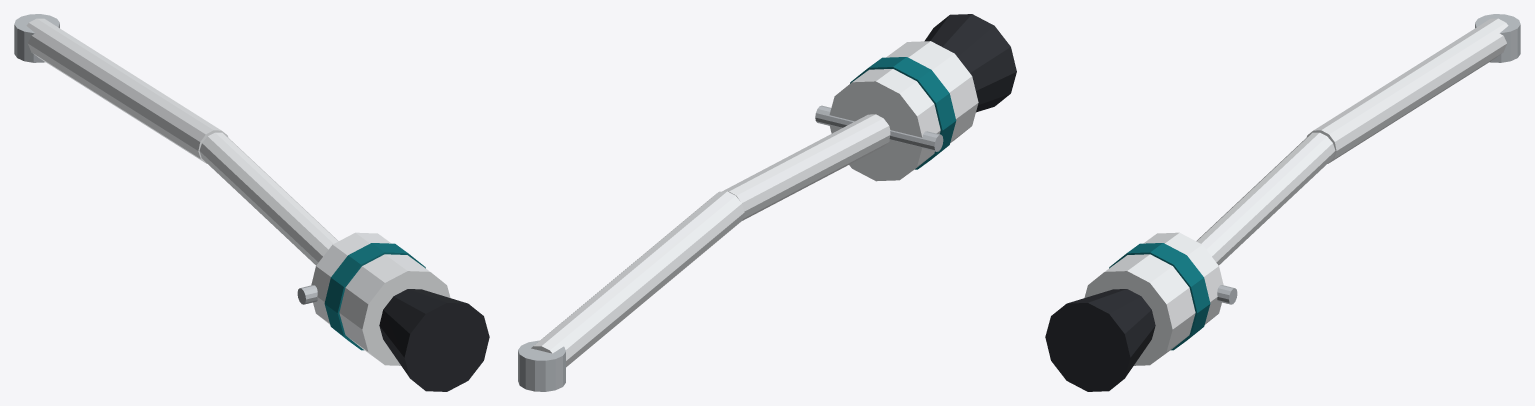
File: brazo-rayos.obj
3 renders of one model, left to right at view 1: azimuth 30°, elevation 25°; view 2: azimuth 150°, elevation 25°; view 3: azimuth 330°, elevation 25°, orthographic. The views are drawn at different scales.
Parts seen in each view (by area): view 1: pieza_6, pieza_9, pieza_7, pieza_8, pieza_4; view 2: pieza_6, pieza_7, pieza_9, pieza_8, pieza_4, pieza_5; view 3: pieza_6, pieza_9, pieza_7, pieza_8, pieza_4.
Boxes of the visible parts, x1,y1,x2,y2 form: pieza_6: (26, 18, 338, 265); pieza_9: (379, 289, 489, 391); pieza_7: (311, 232, 450, 365); pieza_8: (324, 243, 425, 350); pieza_4: (14, 14, 59, 62); pieza_6: (531, 114, 890, 367); pieza_7: (829, 41, 978, 181); pieza_9: (924, 14, 1016, 112); pieza_8: (850, 57, 956, 169); pieza_4: (518, 340, 565, 391); pieza_5: (815, 105, 943, 151); pieza_6: (1196, 18, 1508, 265); pieza_9: (1045, 289, 1155, 391); pieza_7: (1084, 232, 1223, 365); pieza_8: (1109, 243, 1210, 350); pieza_4: (1475, 14, 1520, 62).
Bounding box in the file's own units: 0.2 × 0.166 × 1.28.
